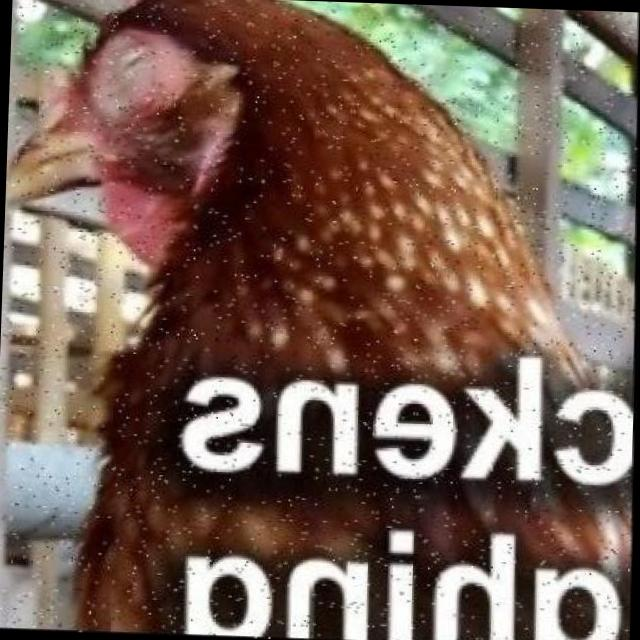Coryza: (70, 11, 192, 144)
